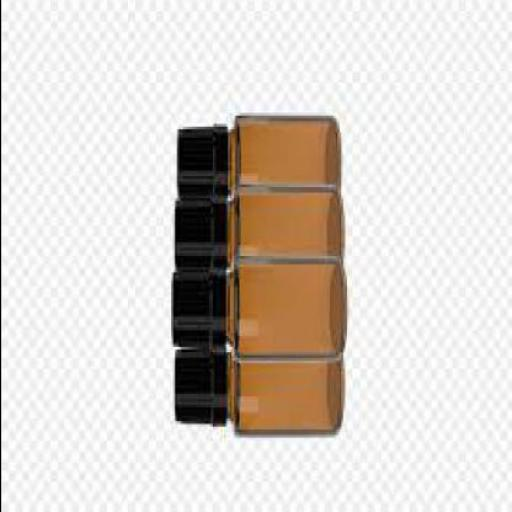glass: (222, 254, 340, 358), (225, 346, 340, 432), (224, 182, 338, 262), (224, 113, 338, 190)
plastic: (170, 264, 223, 350), (172, 346, 226, 426), (172, 188, 223, 264), (174, 121, 225, 190)
